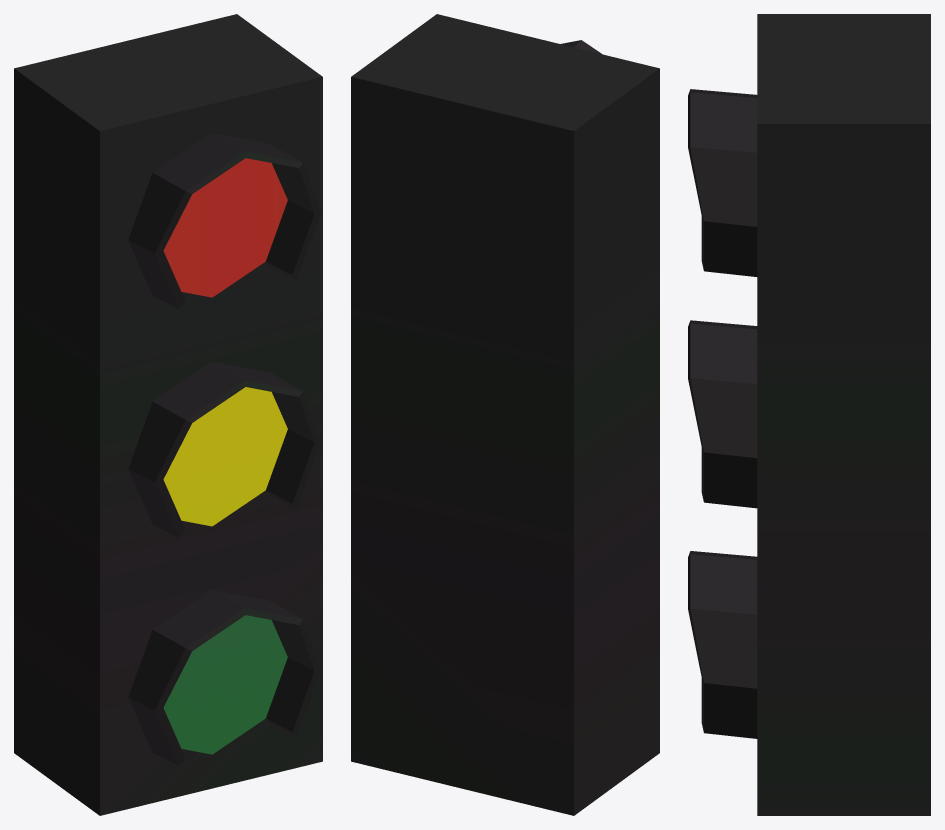
Rendered from TrafficLightHanging.fbx.
3 renders of one model, left to right at view 1: azimuth 30°, elevation 25°; view 2: azimuth 150°, elevation 25°; view 3: azimuth 270°, elevation 25°, orthographic.
Visible parts, largest first — view 1: TrafficLight.001; view 2: TrafficLight.001; view 3: TrafficLight.001.
Part boxes in pixels (bbox=[...]): TrafficLight.001: bbox=[14, 14, 322, 815]; TrafficLight.001: bbox=[351, 14, 659, 815]; TrafficLight.001: bbox=[688, 14, 930, 815].
Size of the model in its own units: 48 by 141 by 44.79.
